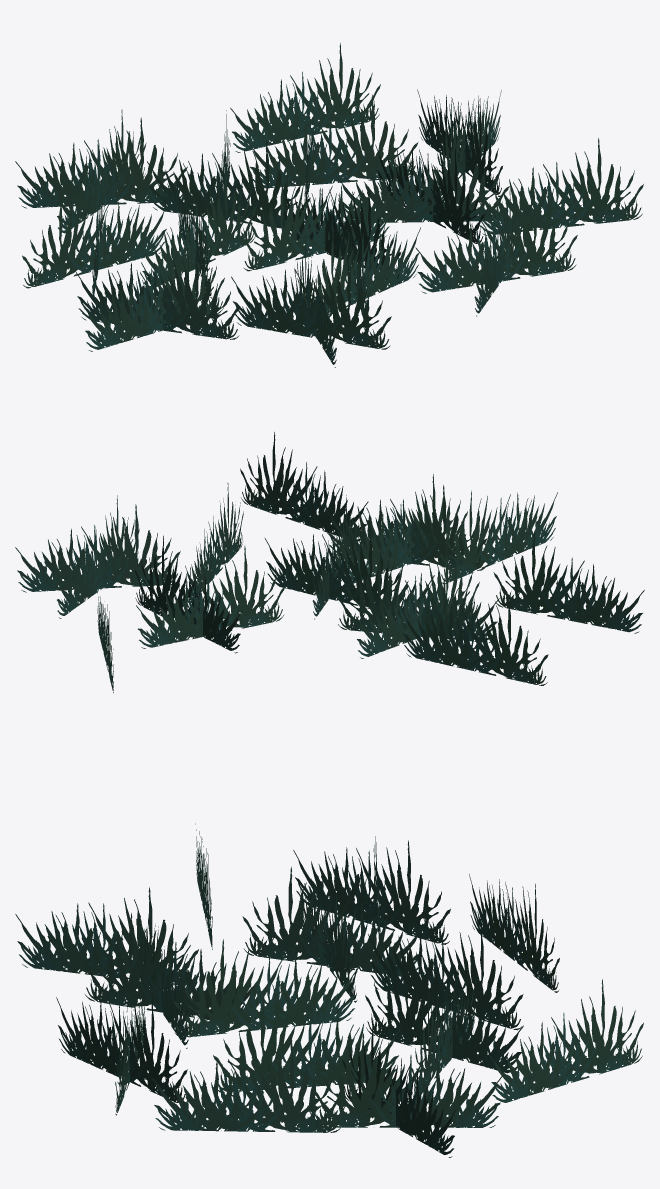
File: PRM Grass.fbx
3 views of the same model, one above another, from view 1: azimuth 30°, elevation 25°; view 2: azimuth 150°, elevation 25°; view 3: azimuth 270°, elevation 25° (orthographic). The views are drawn at different scales.
Visible parts, largest first — view 1: Plane; view 2: Plane; view 3: Plane.
Part boxes in pixels (x1=…): Plane: x1=15, y1=43, x2=643, y2=367; Plane: x1=15, y1=432, x2=644, y2=692; Plane: x1=15, y1=823, x2=643, y2=1157.
Size of the model in its own units: 1198 by 213 by 1060.
